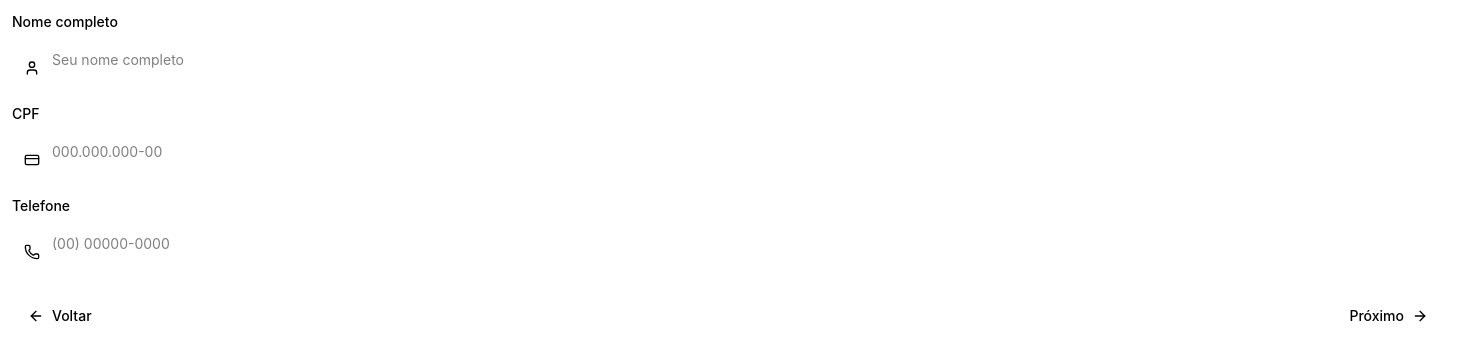
Test: StepPersonalData › CPF masking › masks CPF input as 000.000.000-00
In the field labelled "CPF": (732,152) [12,132,1452,172], type "52998224725"
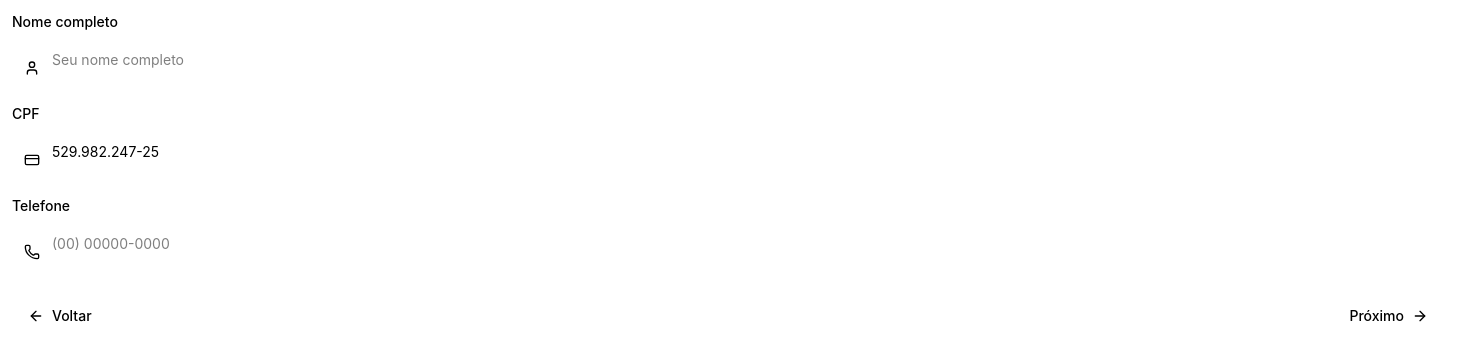
Check: the field labelled "CPF" holds "529.982.247-25", box [12,132,1452,172]
